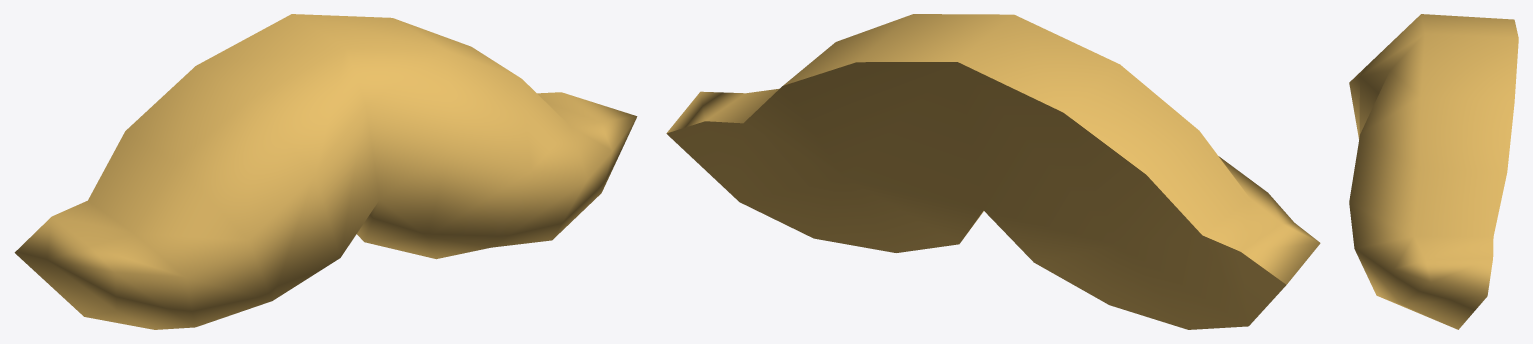
Rendered from Mustache_9.fbx.
3 renders of one model, left to right at view 1: azimuth 30°, elevation 25°; view 2: azimuth 150°, elevation 25°; view 3: azimuth 270°, elevation 25°, orthographic. The views are drawn at different scales.
Parts seen in each view (by area): view 1: Mustache_9; view 2: Mustache_9; view 3: Mustache_9.
Boxes of the visible parts, x1=… form: Mustache_9: x1=14, y1=14, x2=637, y2=329; Mustache_9: x1=666, y1=14, x2=1320, y2=329; Mustache_9: x1=1349, y1=14, x2=1518, y2=329.
Bounding box in the file's own units: 25.76 × 10.32 × 7.4.
